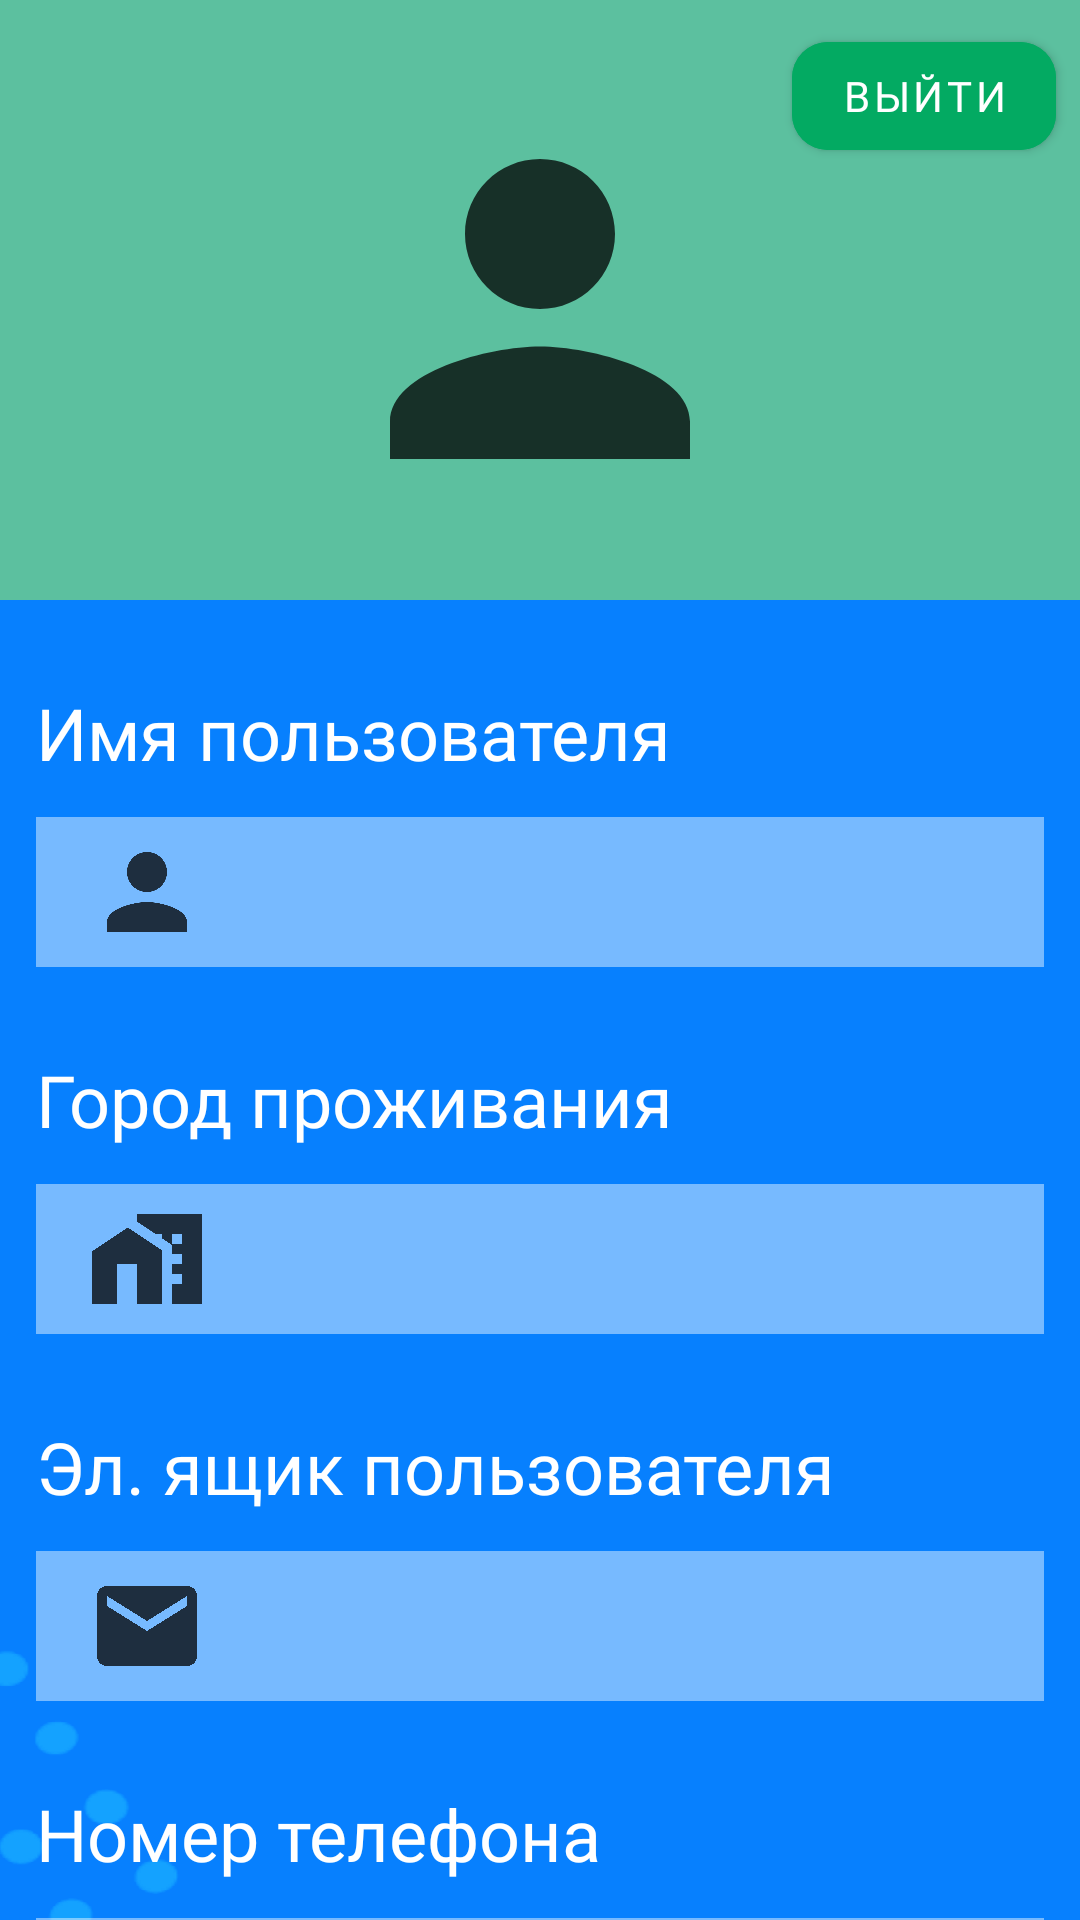

Point at icon controls on the screen. Image size 1080 × 1920, points as point (x, y).
city: point (147, 1259)
email: point (147, 1626)
person: point (540, 309), point (147, 892)
